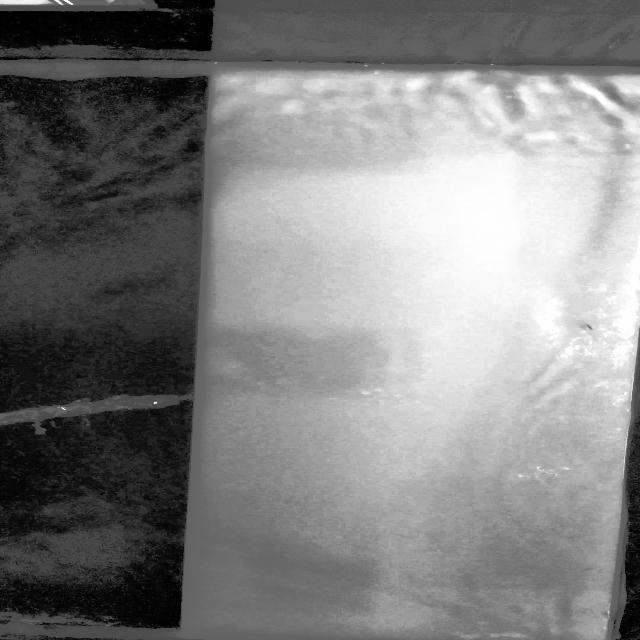shrimp: (572, 322, 598, 335)
